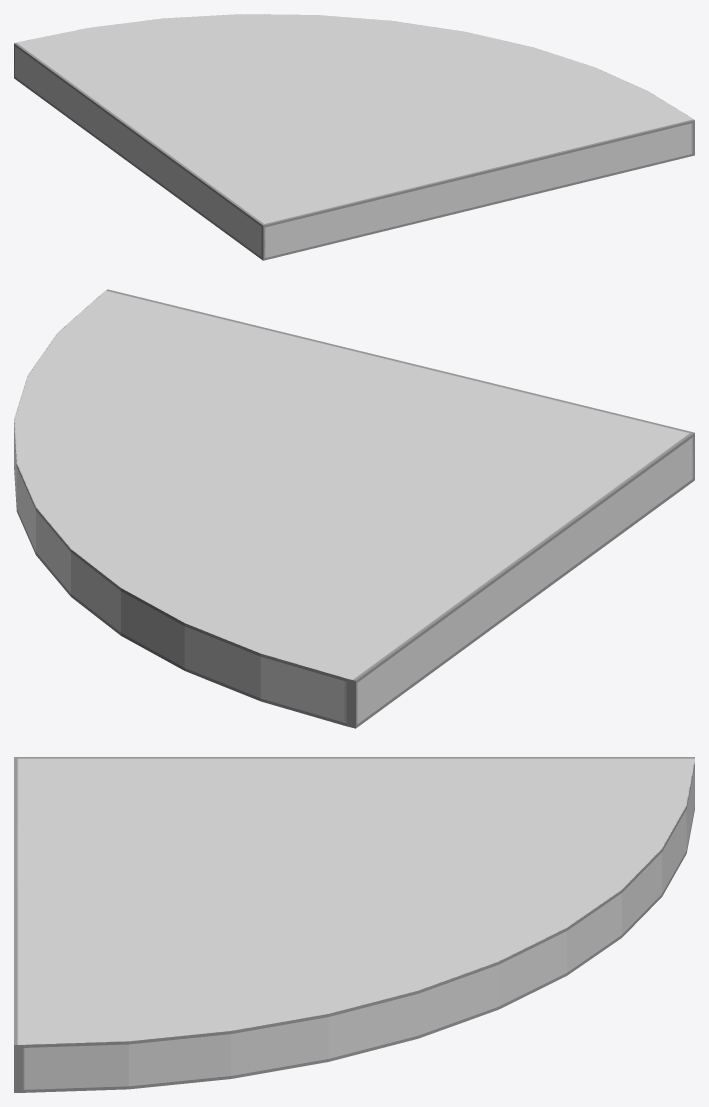
The model's file is belok besar.fbx.
3 renders of one model, top to bottom at view 1: azimuth 30°, elevation 25°; view 2: azimuth 150°, elevation 25°; view 3: azimuth 270°, elevation 25°, orthographic. The views are drawn at different scales.
Parts seen in each view (by area): view 1: belok besar; view 2: belok besar; view 3: belok besar.
Boxes of the visible parts, x1,y1,x2,y2 form: belok besar: (14, 14, 694, 260); belok besar: (14, 289, 694, 728); belok besar: (14, 757, 694, 1092).
Size of the model in its own units: 900 by 70 by 900.
Materials: 1 (1 with a texture image).
